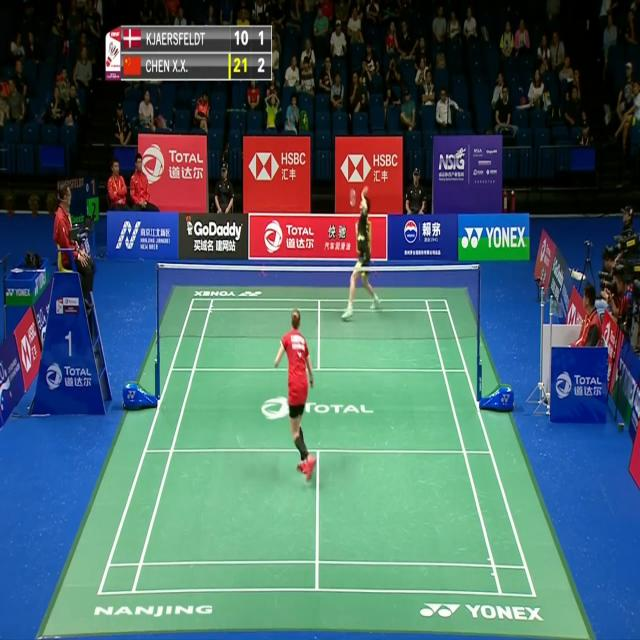Player1: (271, 302, 325, 494)
Player2: (338, 180, 386, 330)
